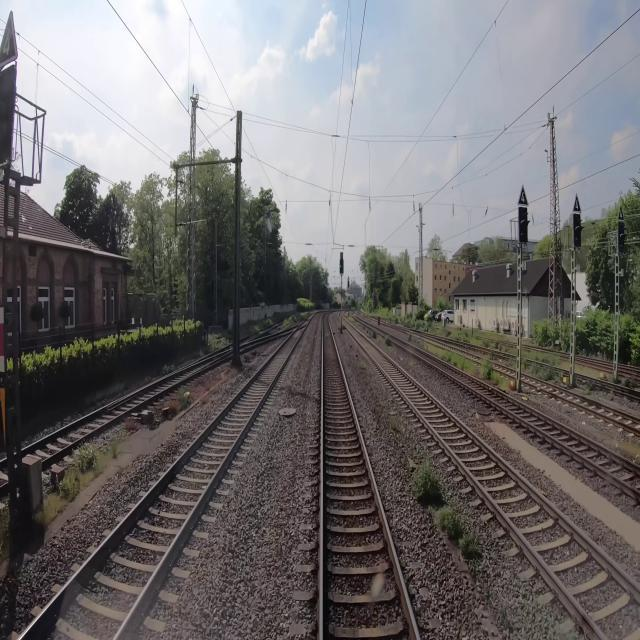Plant: (424, 343, 510, 391), (162, 366, 234, 421), (436, 502, 481, 562), (410, 459, 446, 508), (520, 356, 556, 381), (58, 466, 81, 501), (75, 442, 97, 472), (124, 417, 138, 433), (389, 415, 401, 430), (110, 441, 119, 458), (358, 358, 367, 371), (385, 335, 391, 346), (372, 331, 377, 339)
